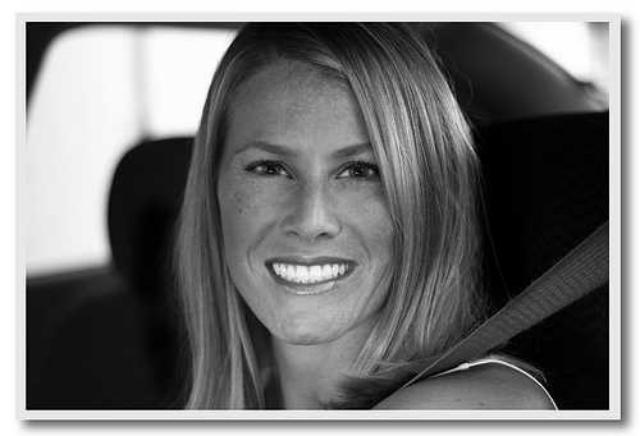SafeDriving: (325, 147, 386, 193), (236, 146, 300, 189)
Seatbelt: (390, 217, 608, 398)
